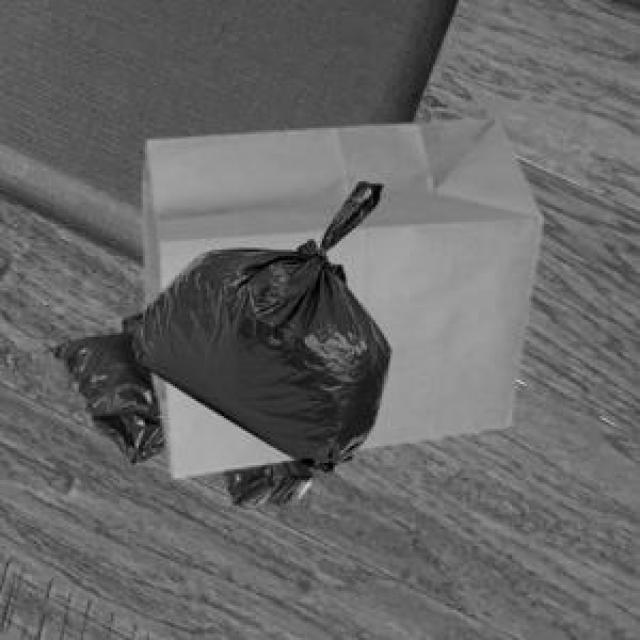miscellaneous trash: (128, 177, 386, 467), (43, 309, 312, 504)
paper: (139, 115, 538, 474)
